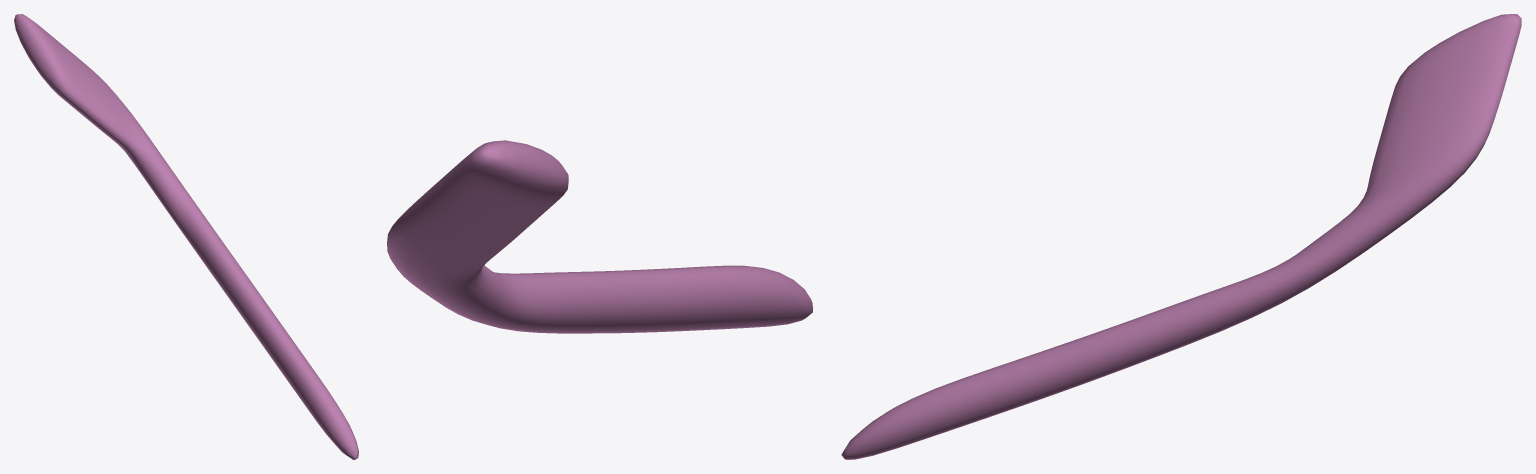
3 views of the same model, side by side, from view 1: azimuth 30°, elevation 25°; view 2: azimuth 150°, elevation 25°; view 3: azimuth 270°, elevation 25° (orthographic). The views are drawn at different scales.
Visible parts, largest first — view 1: 左侧孤束核; view 2: 左侧孤束核; view 3: 左侧孤束核.
Part boxes in pixels (x1,y1,x2,y2): 左侧孤束核: (14,14,358,459); 左侧孤束核: (387,140,812,333); 左侧孤束核: (841,14,1521,459).
Size of the model in its own units: 0.00364 by 0.0093 by 0.0148.
